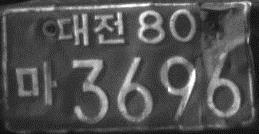0: (169, 7, 196, 42)
3: (70, 57, 110, 124)
6: (115, 55, 155, 124), (205, 50, 243, 119)
8: (136, 9, 165, 43)
9: (158, 54, 197, 125)
대전_O: (56, 9, 127, 47)
마: (12, 57, 58, 108)
